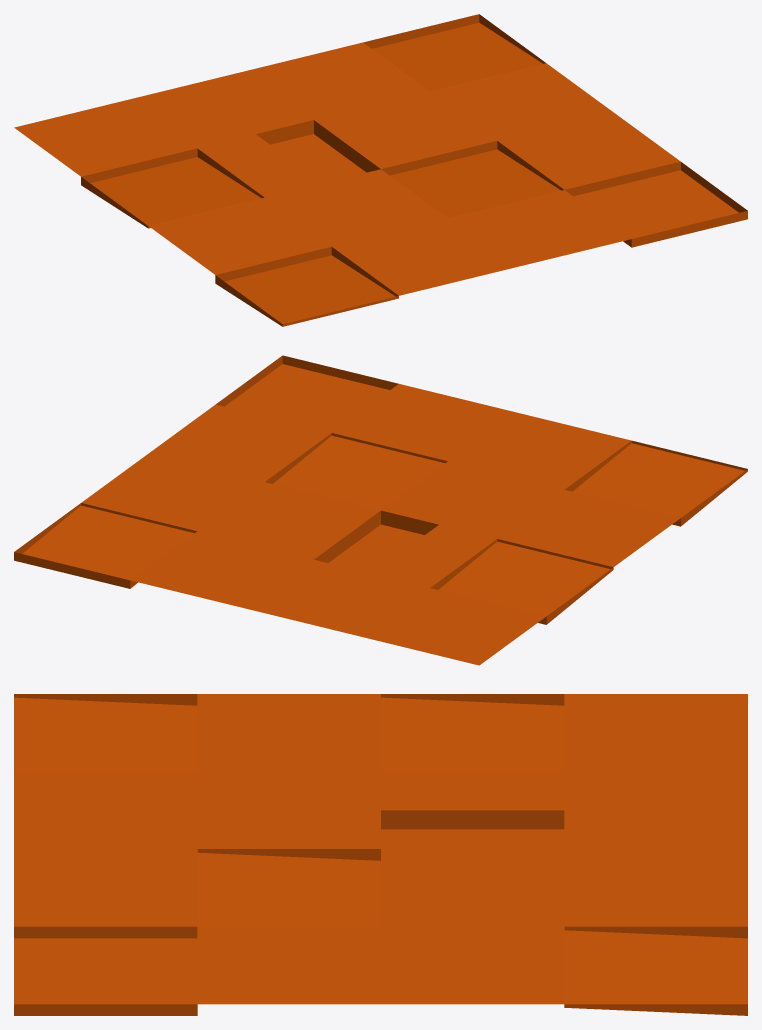
Rendered from Wooden Ceiling Uneven.fbx.
The picture shows the model from 3 angles, top to bottom: view 1: azimuth 30°, elevation 25°; view 2: azimuth 150°, elevation 25°; view 3: azimuth 270°, elevation 25°; orthographic projection. The views are drawn at different scales.
Visible parts, largest first — view 1: Plane; view 2: Plane; view 3: Plane.
Part boxes in pixels (bbox=[...]): Plane: bbox=[14, 14, 747, 326]; Plane: bbox=[14, 355, 747, 665]; Plane: bbox=[14, 694, 747, 1015].
Size of the model in its own units: 800 by 22.99 by 800.
